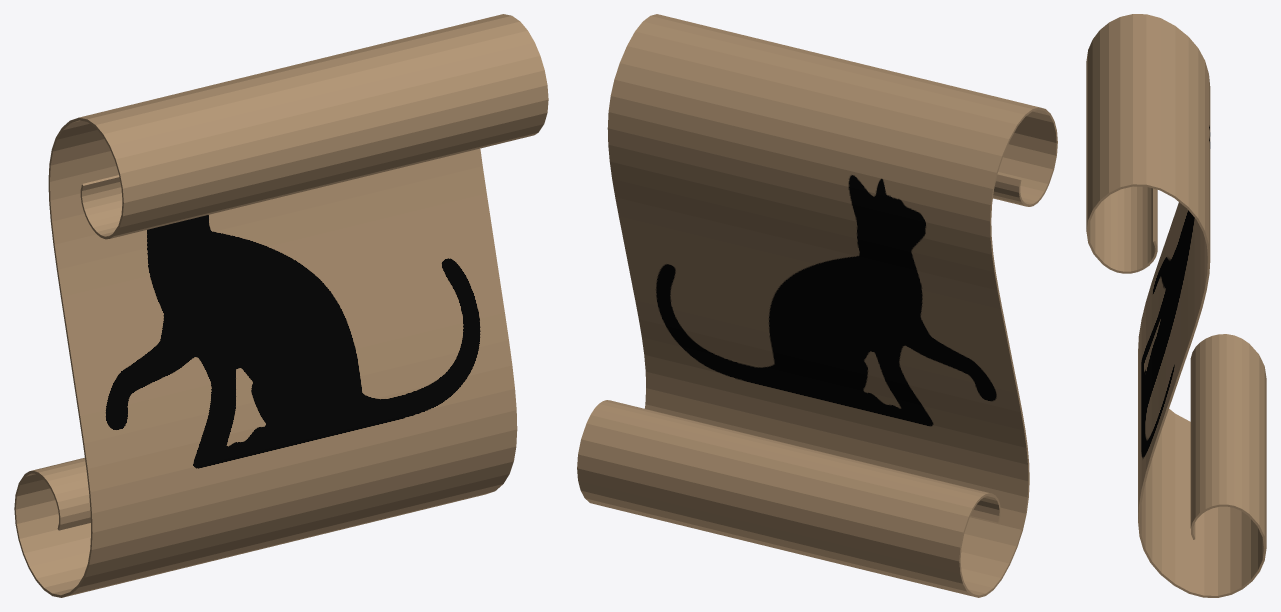
Rendered from Cat-Puwerup.fbx.
The picture shows the model from 3 angles, left to right: view 1: azimuth 30°, elevation 25°; view 2: azimuth 150°, elevation 25°; view 3: azimuth 270°, elevation 25°; orthographic projection. The views are drawn at different scales.
Parts seen in each view (by area): view 1: Cat; view 2: Cat; view 3: Cat.
Boxes of the visible parts, x1,y1,x2,y2 form: Cat: (14, 14, 548, 597); Cat: (577, 14, 1057, 597); Cat: (1086, 14, 1266, 597).
Bounding box in the file's own units: 176 × 199 × 78.51.
Materials: 1 (1 with a texture image).
